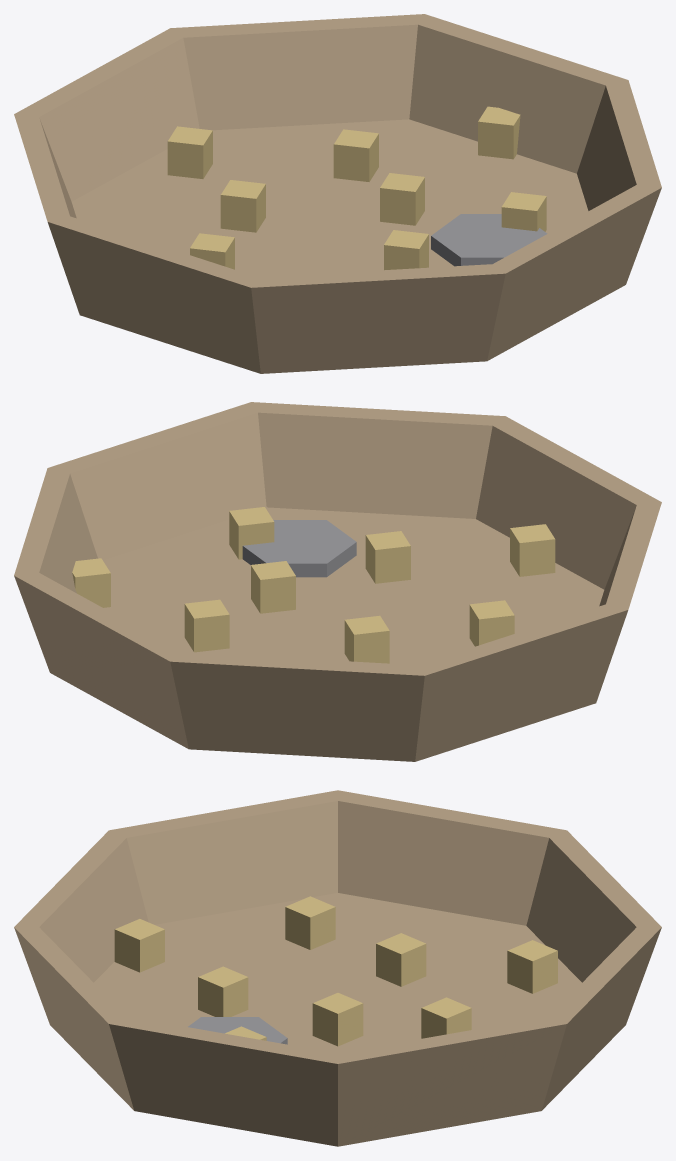
File: prop-rivet-tray-cu1.fbx
The picture shows the model from 3 angles, top to bottom: view 1: azimuth 30°, elevation 25°; view 2: azimuth 150°, elevation 25°; view 3: azimuth 270°, elevation 25°; orthographic projection. The views are drawn at different scales.
Parts seen in each view (by area): view 1: prop-rivet-tray-cu1; view 2: prop-rivet-tray-cu1; view 3: prop-rivet-tray-cu1.
Part boxes in pixels (x1,y1,x2,y2): prop-rivet-tray-cu1: (14,14,661,373); prop-rivet-tray-cu1: (14,402,661,761); prop-rivet-tray-cu1: (14,790,661,1146).
Bounding box in the file's own units: 18 × 3 × 18.
